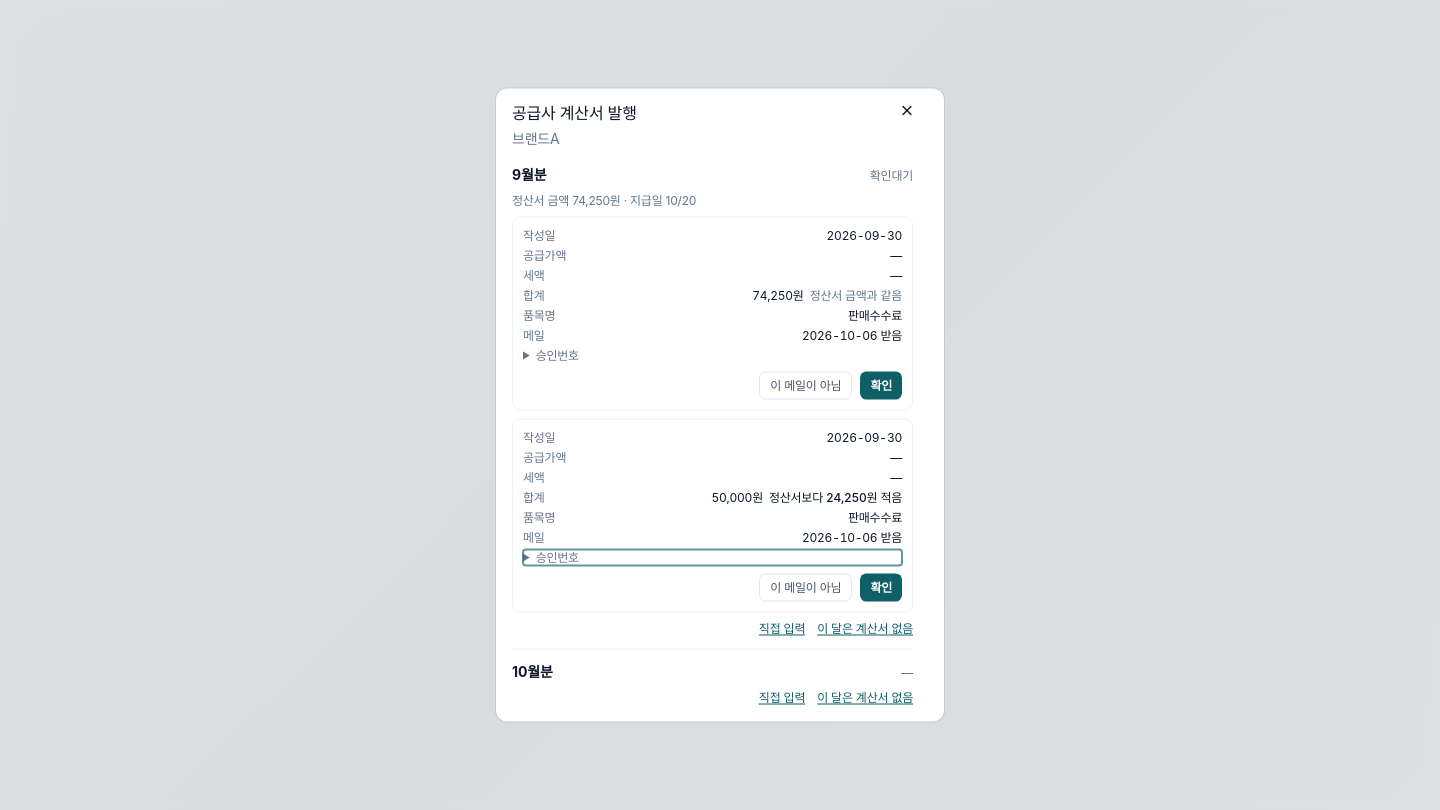
Scenario: CampaignInvoiceDialog — 정산서 금액 (T-242) › 아직 오지 않은 작성일로는 기록할 수 없다
Expected: the text "정산서 금액 74,250원 · 지급일 10/20" is shown, [512, 192, 696, 208]
Click the button "직접 입력" below "50,000원" at (782, 628), box [759, 620, 805, 636]
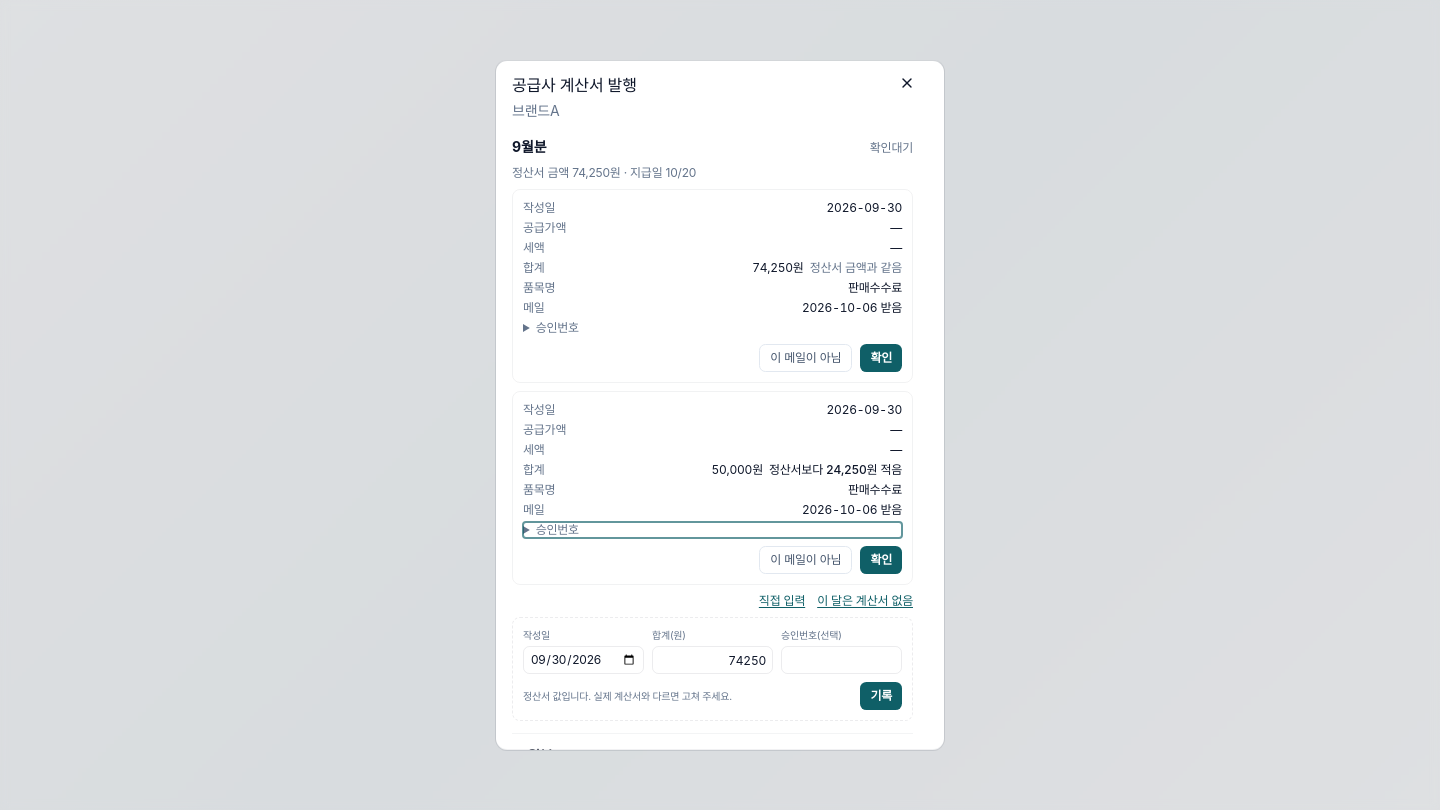
Type "2099-12-31" into the date field labelled "작성일" at (584, 660), box [523, 646, 644, 674]
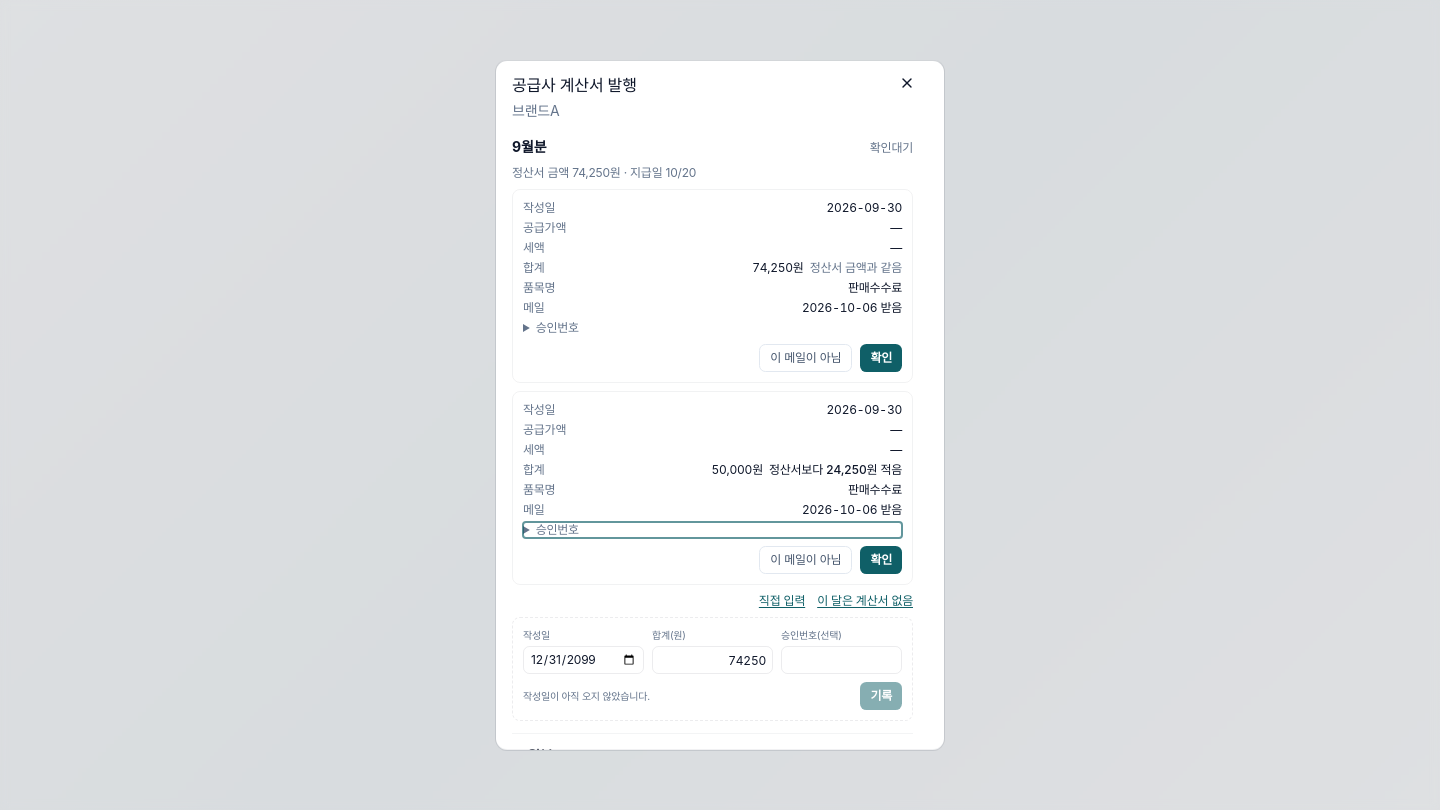
Expected: the text "작성일이 아직 오지 않았습니다." is shown, [523, 689, 650, 703]
Expected: the button "기록" is disabled, [860, 682, 902, 710]
